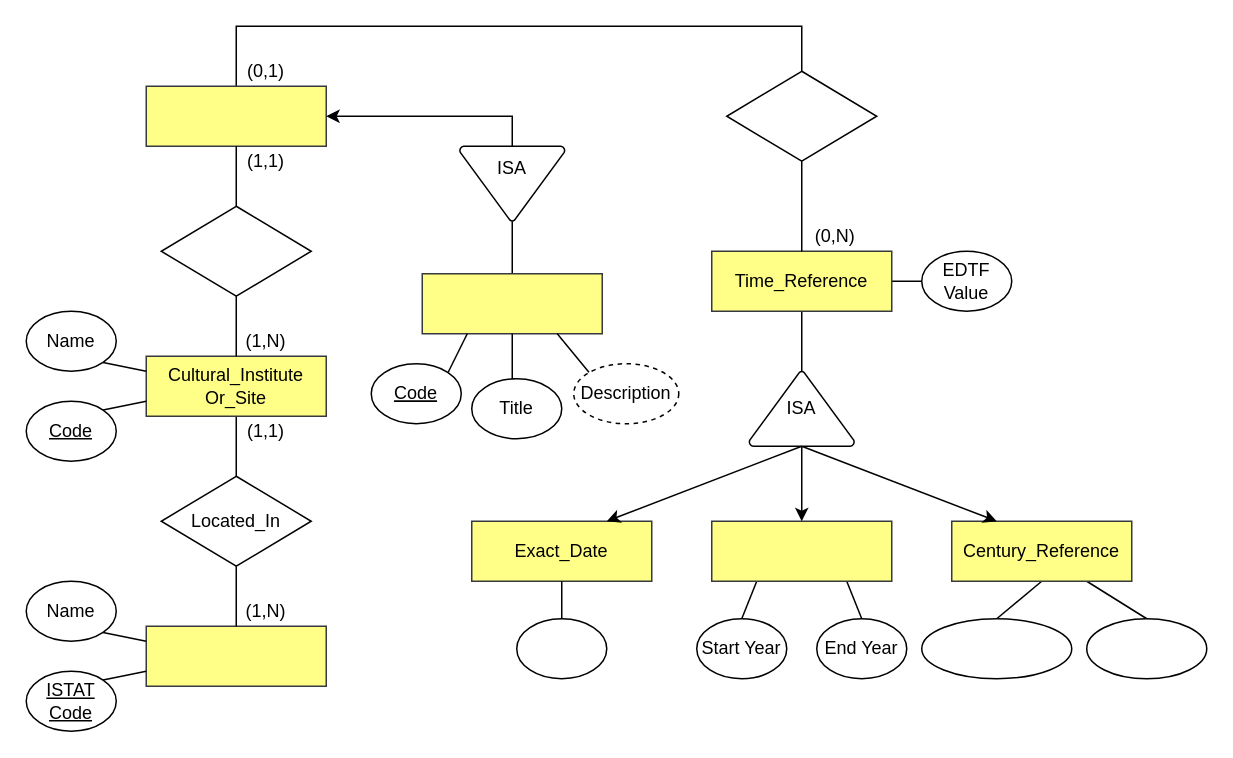
The diagram is 1233 pixels wide and 758 high, and some of its shapes have lost their labels. The shapes that lost their labels are listed below. From the top down, each one's box as (x1, y1, x2, y2) in pixels, then its label:
(145, 85, 326, 146): Painting
(725, 70, 877, 161): Time_Refered
(160, 205, 311, 296): Hosts
(421, 272, 602, 334): Artwork
(710, 520, 892, 581): Year_Range
(145, 625, 326, 686): Place
(515, 617, 607, 679): Date
(920, 617, 1072, 679): Century Number
(1085, 617, 1207, 679): Century Part
